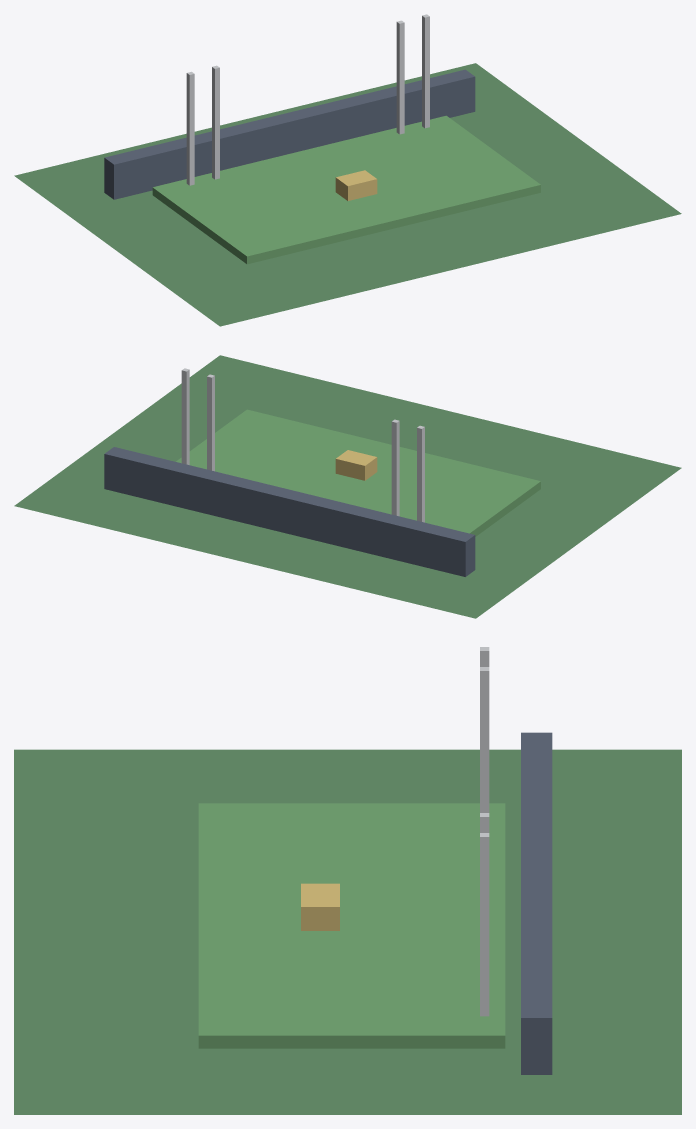
The model's file is world.glb.
3 renders of one model, top to bottom at view 1: azimuth 30°, elevation 25°; view 2: azimuth 150°, elevation 25°; view 3: azimuth 270°, elevation 25°, orthographic. The views are drawn at different scales.
Parts seen in each view (by area): view 1: afl_opaque_mesh; view 2: afl_opaque_mesh; view 3: afl_opaque_mesh.
Part boxes in pixels (x1=…): afl_opaque_mesh: x1=14, y1=14, x2=681, y2=326; afl_opaque_mesh: x1=14, y1=355, x2=681, y2=618; afl_opaque_mesh: x1=14, y1=647, x2=681, y2=1114.
Size of the model in its own units: 11 by 2.7 by 8.5.
